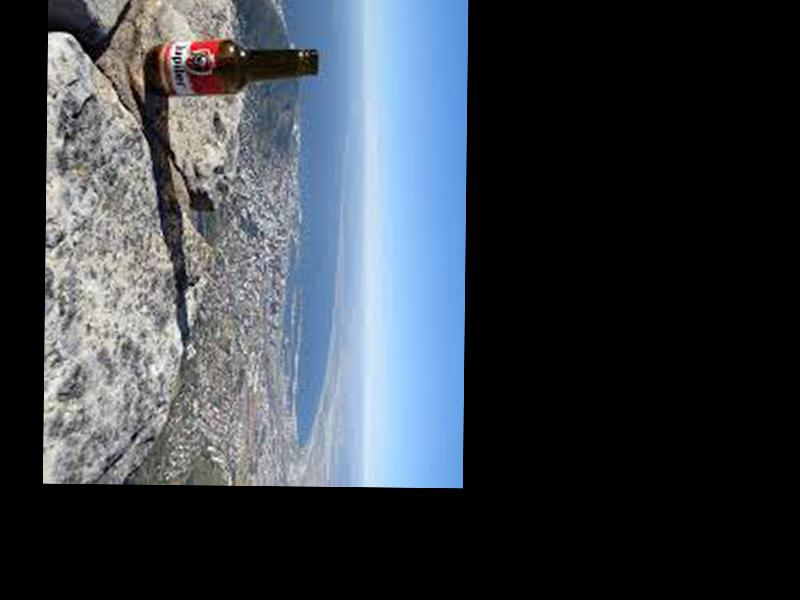Beer: (150, 37, 320, 97)
